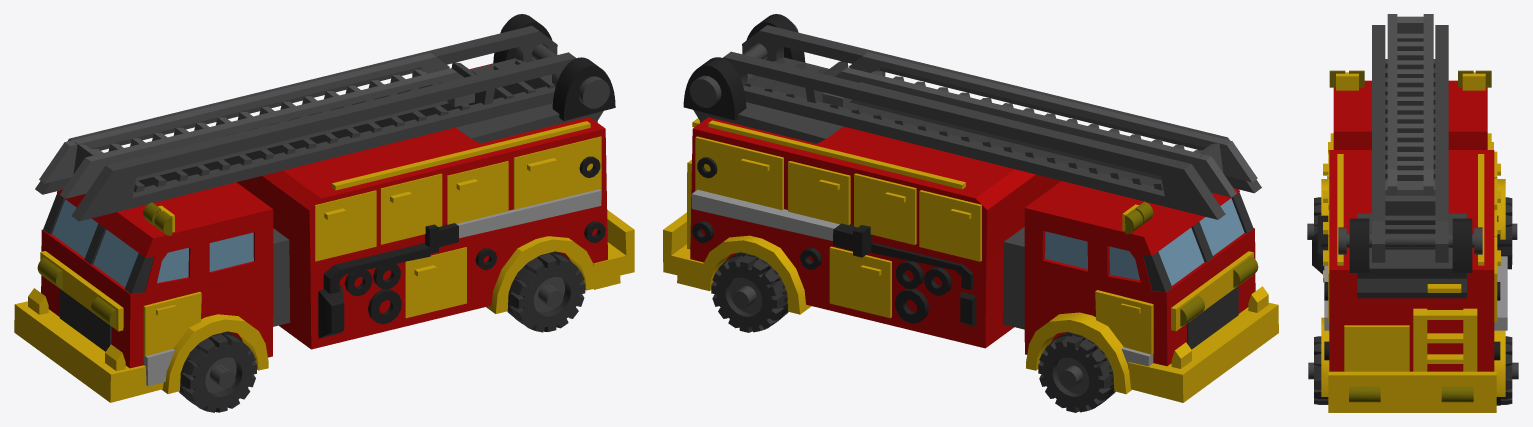
Rendered from firetruck.fbx.
The picture shows the model from 3 angles, left to right: view 1: azimuth 30°, elevation 25°; view 2: azimuth 150°, elevation 25°; view 3: azimuth 270°, elevation 25°; orthographic projection. The views are drawn at different scales.
Parts seen in each view (by area): view 1: Object_6, Object_7, Object_4, Object_10, Object_11, Object_8, Object_5, Object_9, Object_3, Object_12; view 2: Object_6, Object_7, Object_4, Object_10, Object_11, Object_8, Object_5, Object_9, Object_3, Object_12; view 3: Object_6, Object_7, Object_4, Object_10, Object_8, Object_11, Object_12, Object_9.
Part boxes in pixels (<box>): Object_6: <box>41,63,607,368</box>; Object_7: <box>14,121,634,402</box>; Object_4: <box>35,25,609,388</box>; Object_10: <box>39,53,474,198</box>; Object_11: <box>43,193,585,412</box>; Object_8: <box>180,14,615,404</box>; Object_5: <box>52,199,253,287</box>; Object_9: <box>143,189,601,386</box>; Object_3: <box>205,228,565,392</box>; Object_12: <box>37,202,172,327</box>; Object_6: <box>690,117,1255,366</box>; Object_7: <box>663,118,1278,402</box>; Object_4: <box>689,21,1261,387</box>; Object_10: <box>822,52,1257,197</box>; Object_11: <box>711,192,1253,412</box>; Object_8: <box>683,14,1113,405</box>; Object_5: <box>1045,198,1244,285</box>; Object_9: <box>691,189,1153,366</box>; Object_3: <box>729,227,1089,393</box>; Object_12: <box>1125,201,1258,326</box>; Object_6: <box>1329,80,1494,371</box>; Object_7: <box>1321,72,1505,412</box>; Object_4: <box>1307,25,1518,379</box>; Object_10: <box>1385,14,1435,195</box>; Object_8: <box>1312,215,1511,405</box>; Object_11: <box>1314,197,1512,404</box>; Object_12: <box>1329,70,1491,402</box>; Object_9: <box>1324,176,1507,330</box>.
Bounding box in the file's own units: 16603 × 7126 × 6455.
